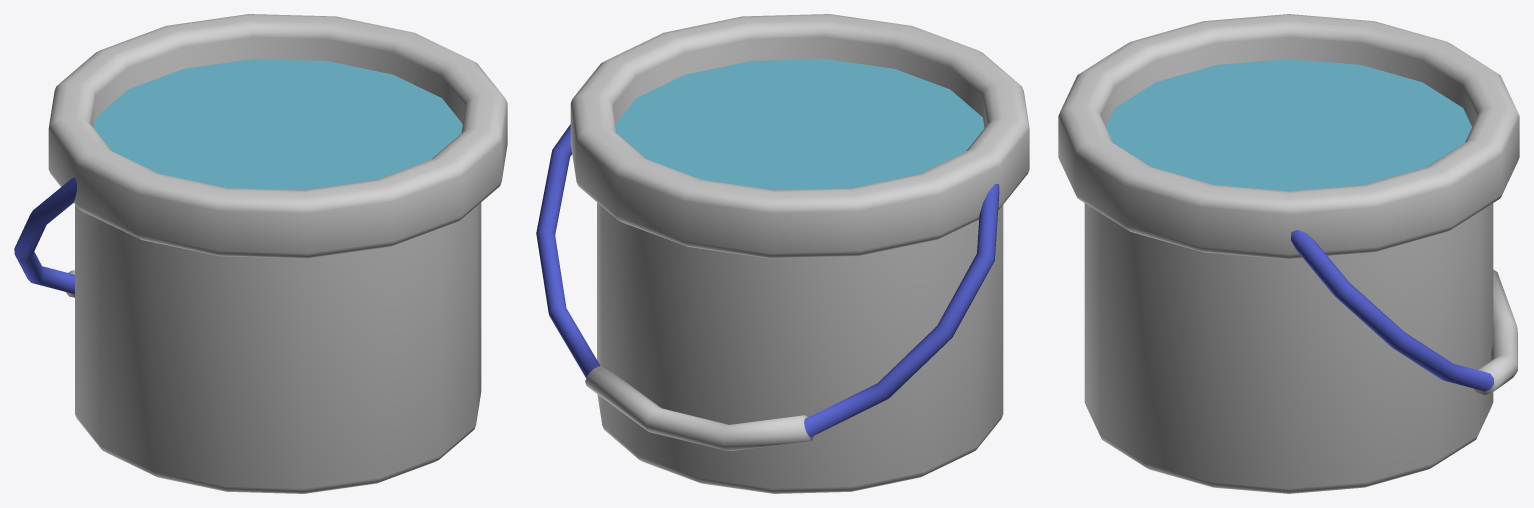
Rendered from Bucket.fbx.
3 renders of one model, left to right at view 1: azimuth 30°, elevation 25°; view 2: azimuth 150°, elevation 25°; view 3: azimuth 270°, elevation 25°, orthographic.
Visible parts, largest first — view 1: Bucket, Water, Handle; view 2: Bucket, Water, Handle; view 3: Bucket, Water, Handle.
Boxes of the visible parts, <box> form: Bucket: <box>48,14,507,493</box>; Water: <box>94,59,462,190</box>; Handle: <box>14,178,76,297</box>; Bucket: <box>570,14,1029,493</box>; Water: <box>615,59,984,190</box>; Handle: <box>536,124,999,450</box>; Bucket: <box>1058,14,1519,493</box>; Water: <box>1106,59,1471,191</box>; Handle: <box>1291,229,1517,394</box>.
Bounding box in the file's own units: 97.28 × 64.37 × 88.42.
